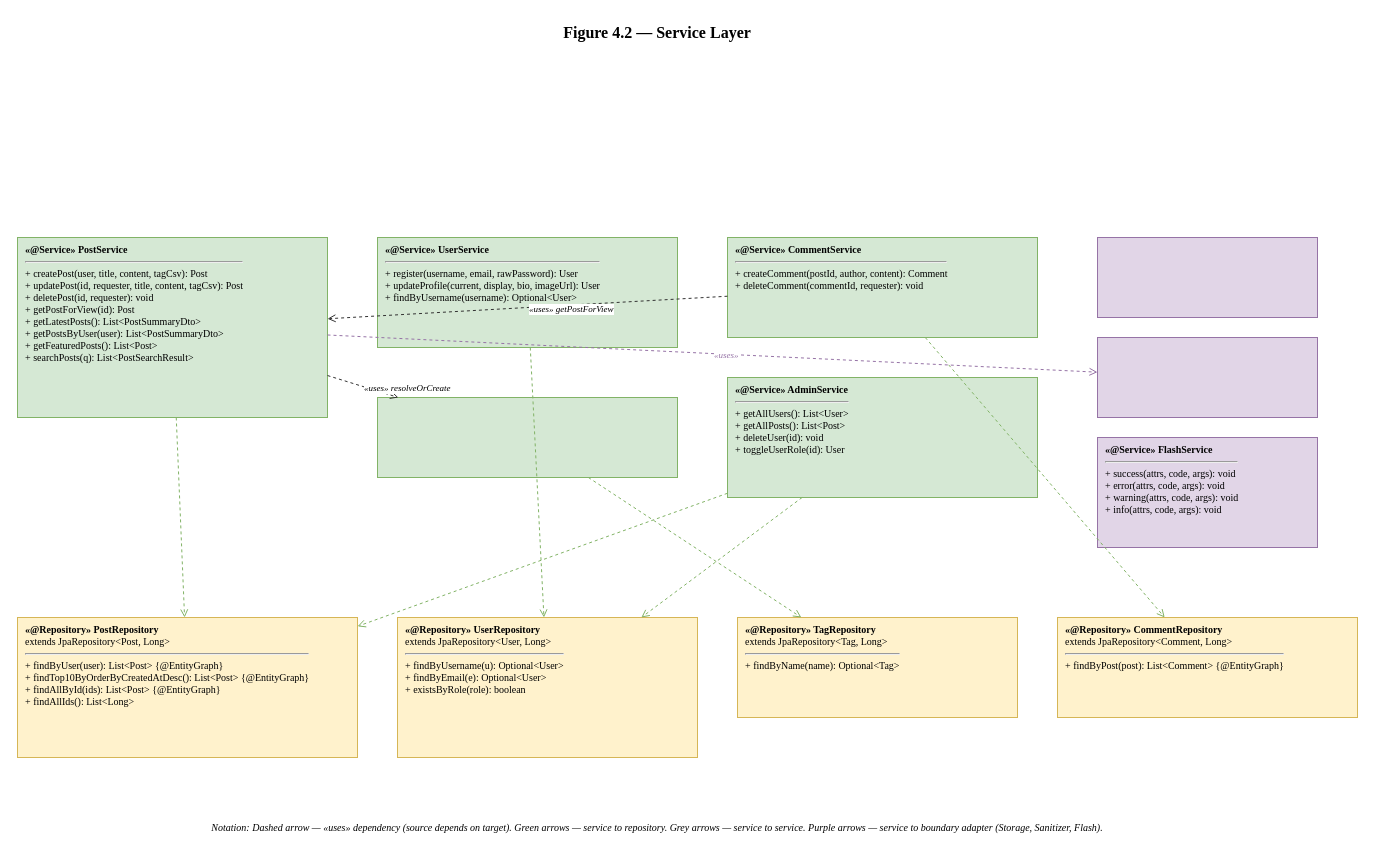
Image size: 1375x864. Some labels were removed from this diagram. Here are the shapes that lost their labels. From the top down, the centre of each, then its label:
At (1207,277): "«@Service» StorageService + store(file: MultipartFile): String".
At (1207,377): "«@Component» HtmlSanitizer + sanitize(html: String): String".
At (527,437): "«@Service» TagService + resolveOrCreate(csv): Set<Tag>".
